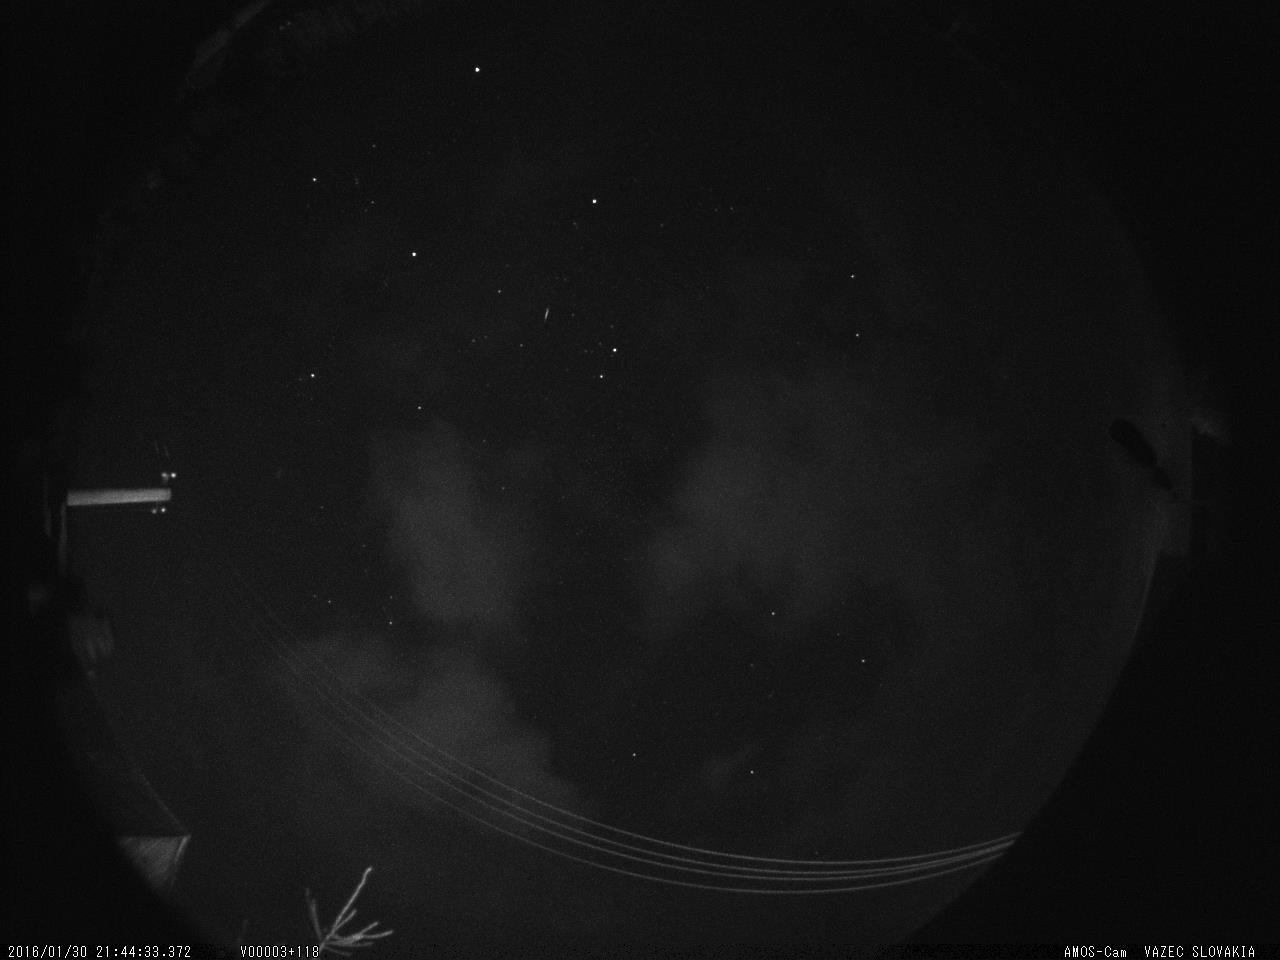meteor: (536, 299, 557, 329)
